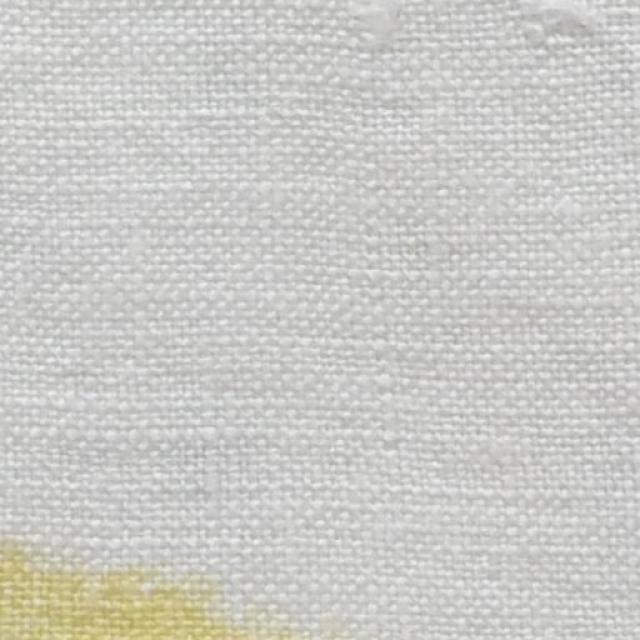Knot: (522, 0, 584, 36)
Stain: (0, 558, 269, 639)
